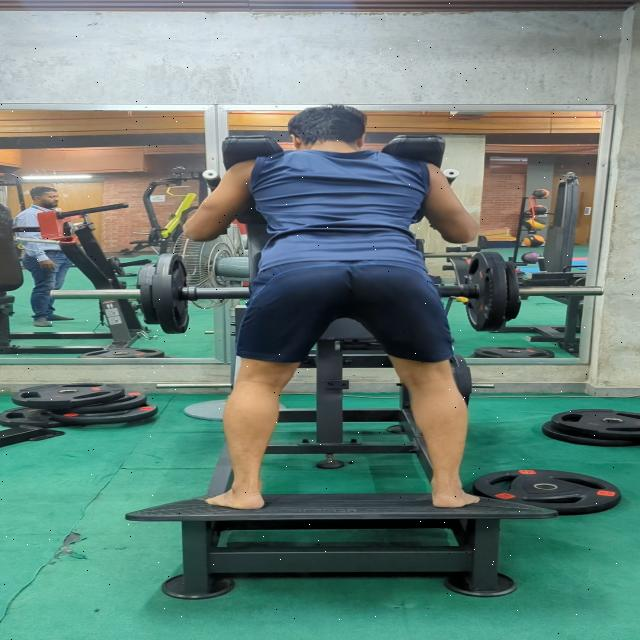Normal_SquatsWithBarbell: (174, 83, 492, 536)
